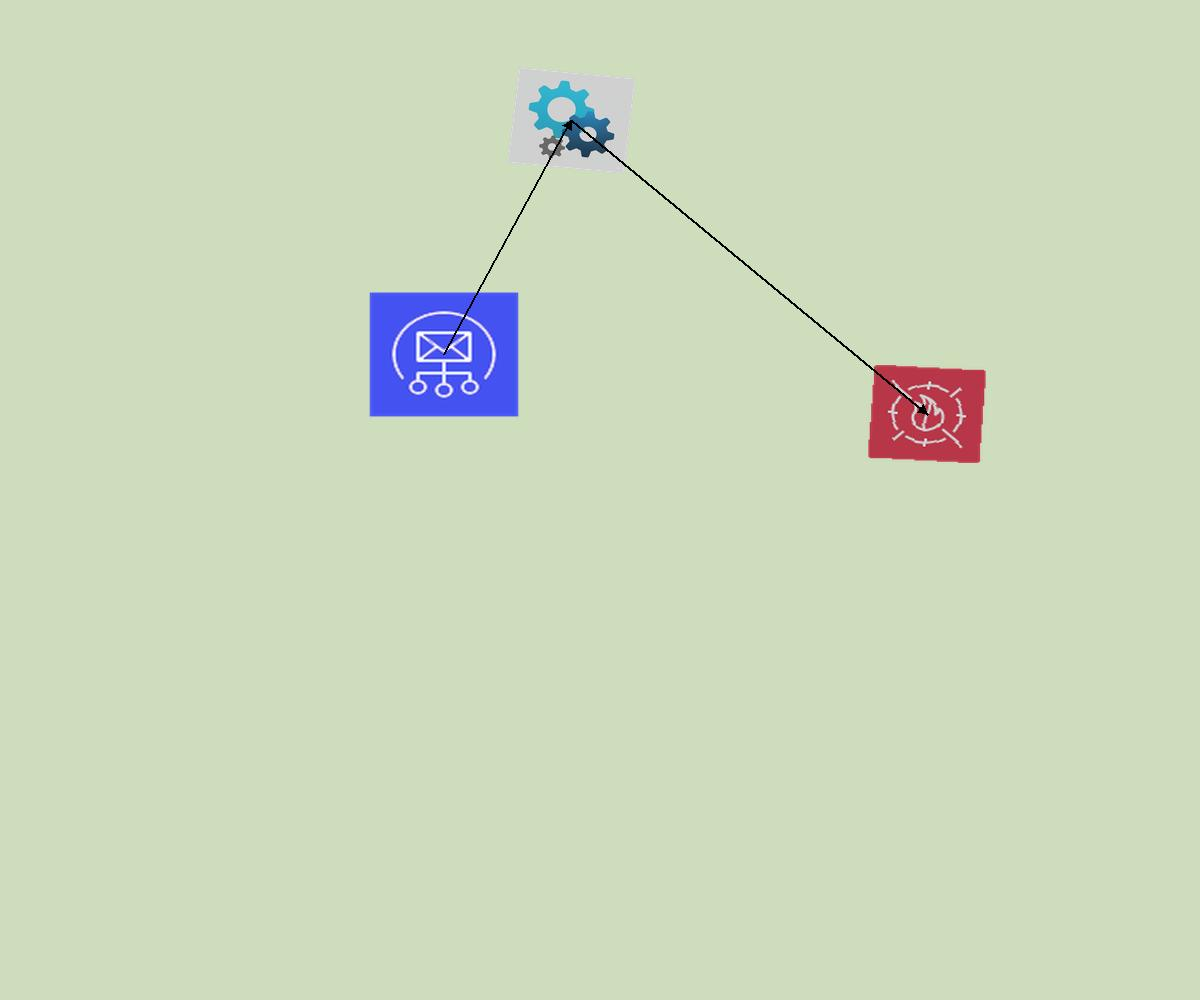AWS-Simple-Email-Service: (368, 291, 520, 418)
AWS-WAF: (867, 364, 987, 464)
Azure_api: (507, 67, 636, 174)
